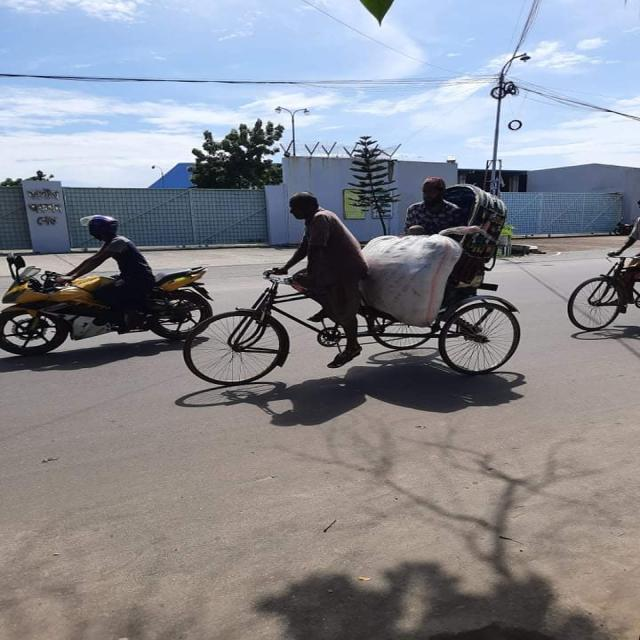bike: (0, 246, 224, 360)
rickshaw: (200, 187, 520, 388)
